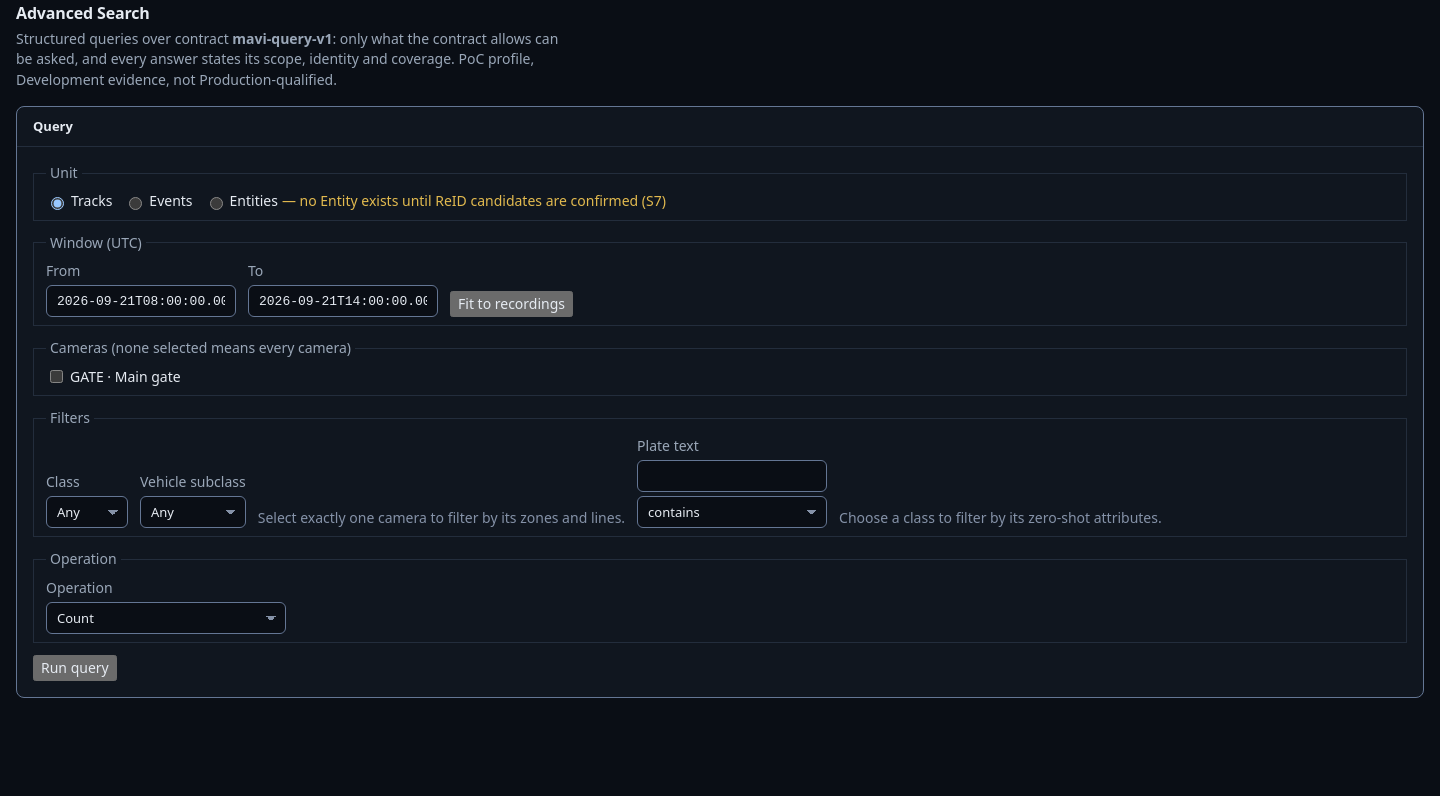
it: Advanced Search › shows a refusal with its typed code and where it applies
Expected: the field named "From (UTC)" is not empty, [46, 285, 236, 317]
What coordinates should you click on to do the following:
click the button "Run query"
I would click on:
 (75, 668)
Its box is [33, 655, 117, 681].
(page scrolled)
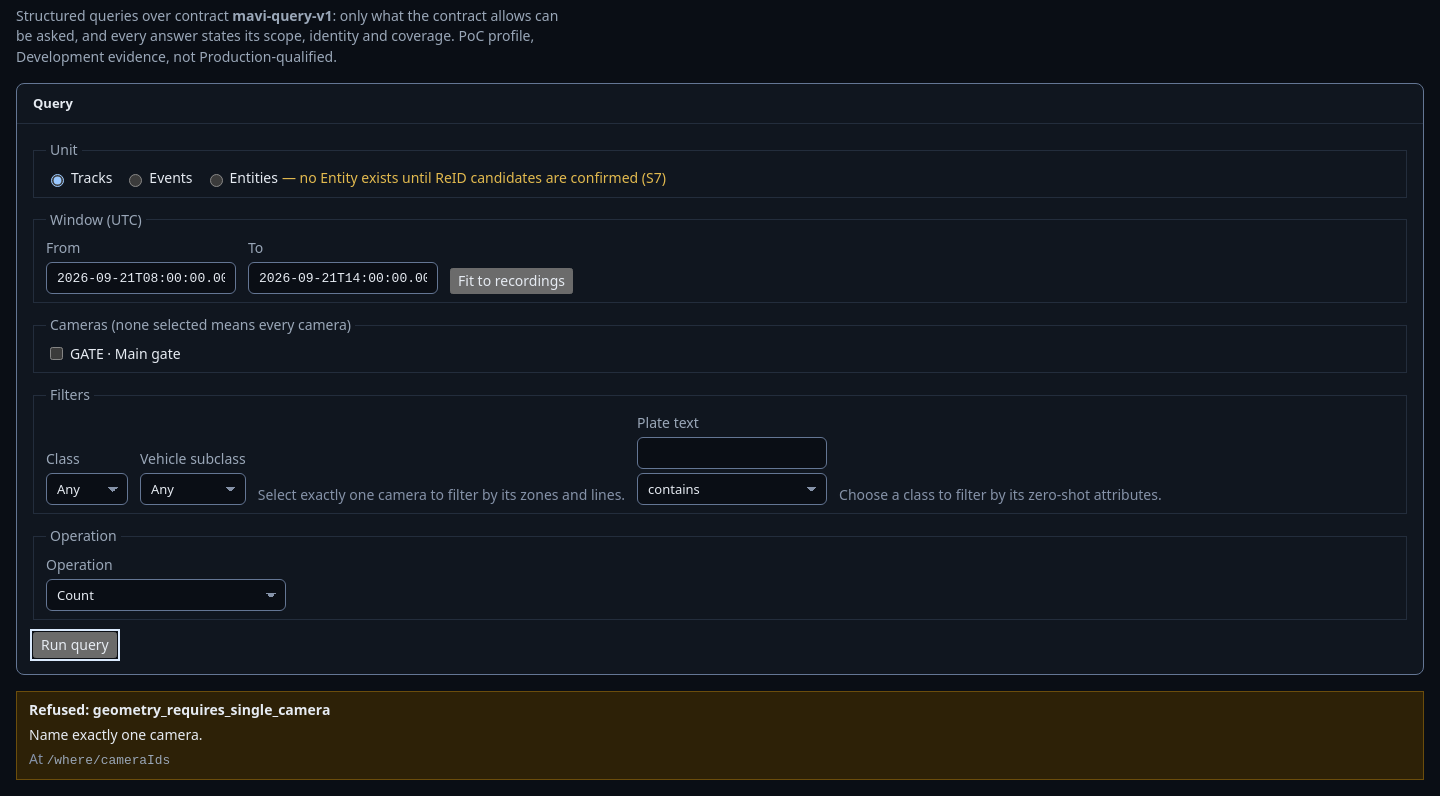
Expected: the message shows "Refused: geometry_requires_single_camera", [16, 691, 1424, 780]
Expected: the message shows "/where/cameraIds", [47, 753, 170, 768]
